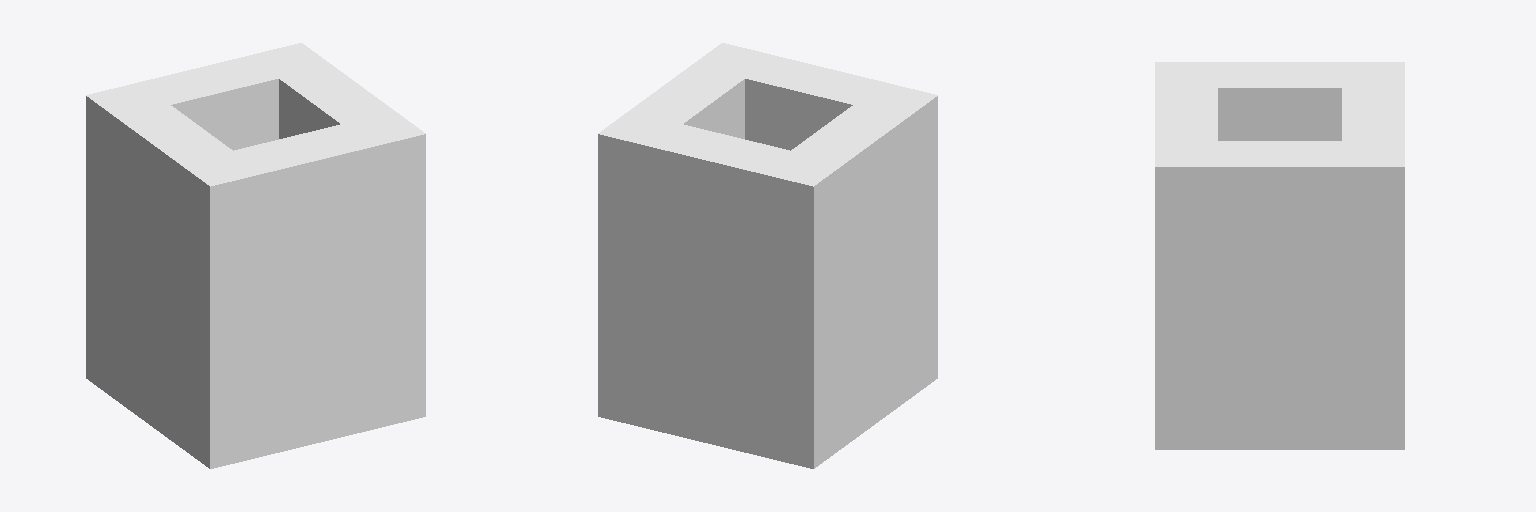
Rendered from throttle_base.obj.
The picture shows the model from 3 angles: view 1: azimuth 30°, elevation 25°; view 2: azimuth 150°, elevation 25°; view 3: azimuth 270°, elevation 25°; orthographic projection.
Visible parts, largest first — view 1: throttle_base; view 2: throttle_base; view 3: throttle_base.
Part boxes in pixels (x1,y1,x2,y2): throttle_base: (86,43,425,468); throttle_base: (598,43,937,468); throttle_base: (1155,62,1404,449).
Bounding box in the file's own units: 4 × 5 × 4.